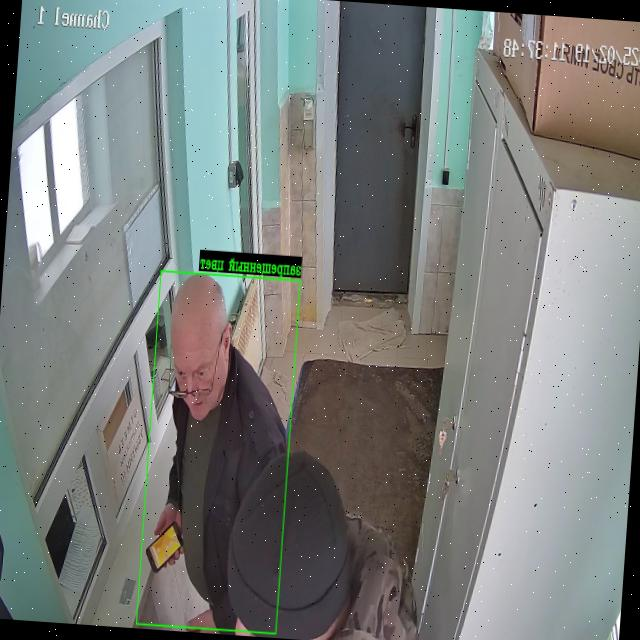Person: (155, 275, 286, 629), (283, 452, 418, 640)
